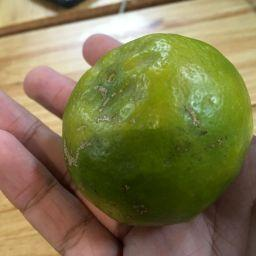Unripe: (61, 35, 249, 221)
